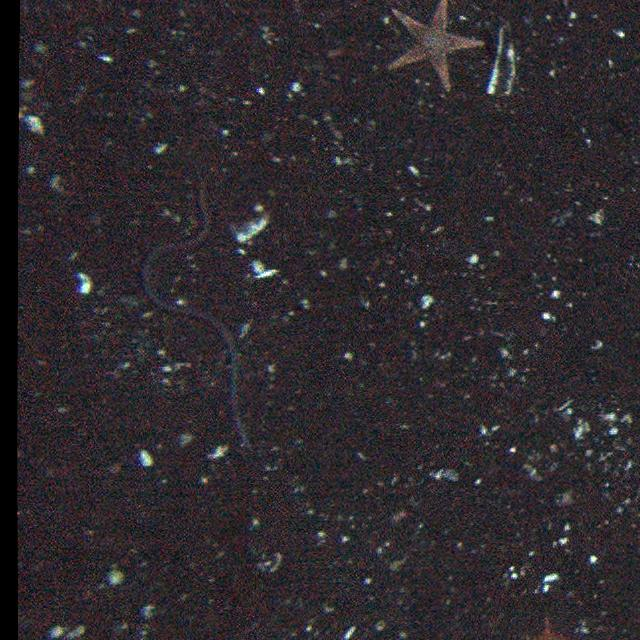eel: (142, 176, 260, 453)
